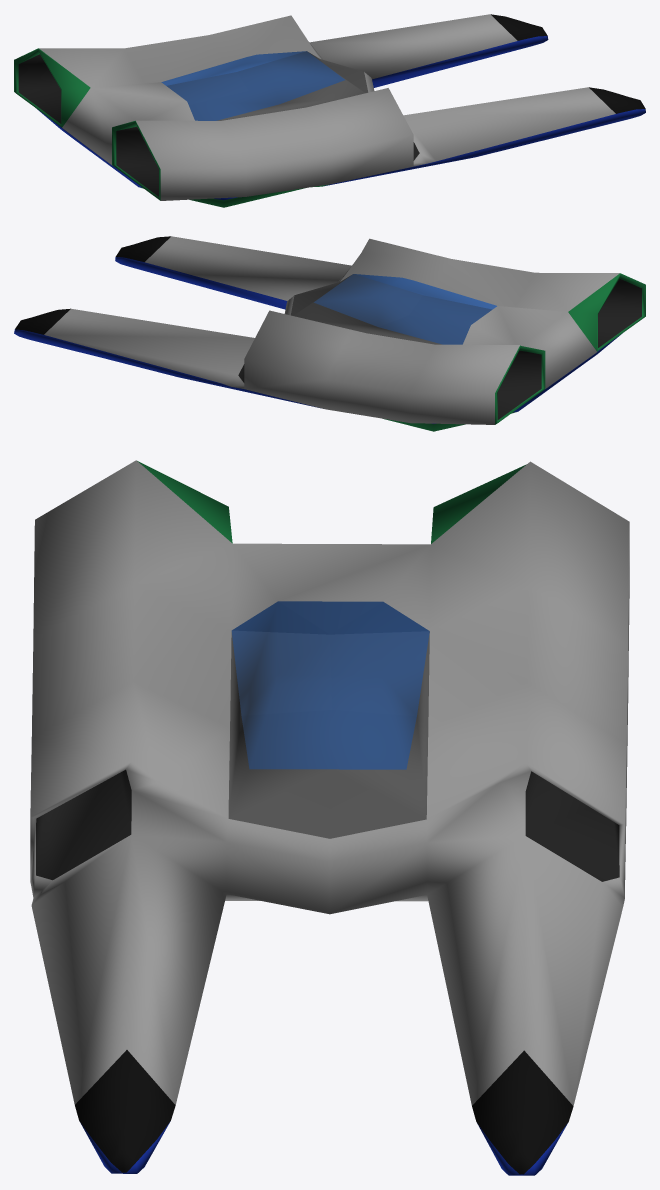
File: machine3.obj
The picture shows the model from 3 angles, top to bottom: view 1: azimuth 30°, elevation 25°; view 2: azimuth 150°, elevation 25°; view 3: azimuth 270°, elevation 25°; orthographic projection. The views are drawn at different scales.
Parts seen in each view (by area): view 1: Mesh.001_Box001; view 2: Mesh.001_Box001; view 3: Mesh.001_Box001.
Part boxes in pixels (box(x1,y1,x2,y2)): Mesh.001_Box001: box(14, 14, 645, 207); Mesh.001_Box001: box(14, 236, 645, 431); Mesh.001_Box001: box(30, 460, 629, 1175).
Size of the model in its own units: 15.29 by 3.41 by 7.8.
